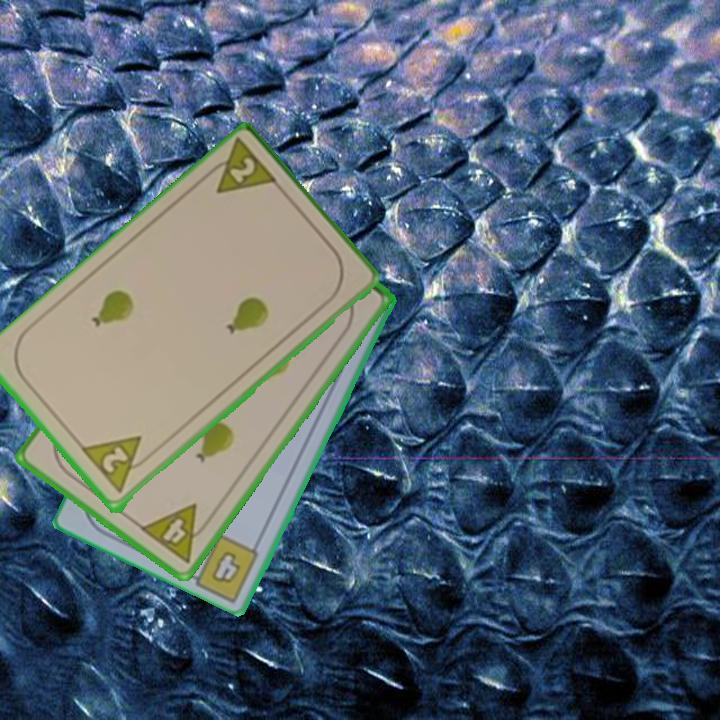2p: (199, 136, 282, 198), (79, 432, 158, 497)
4b: (208, 547, 244, 588)
4p: (136, 500, 216, 567)
